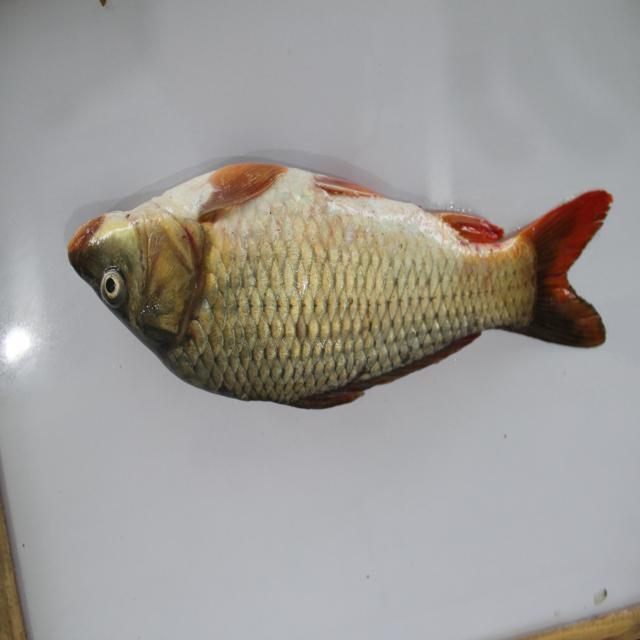CommonCarp: (69, 144, 633, 428)
